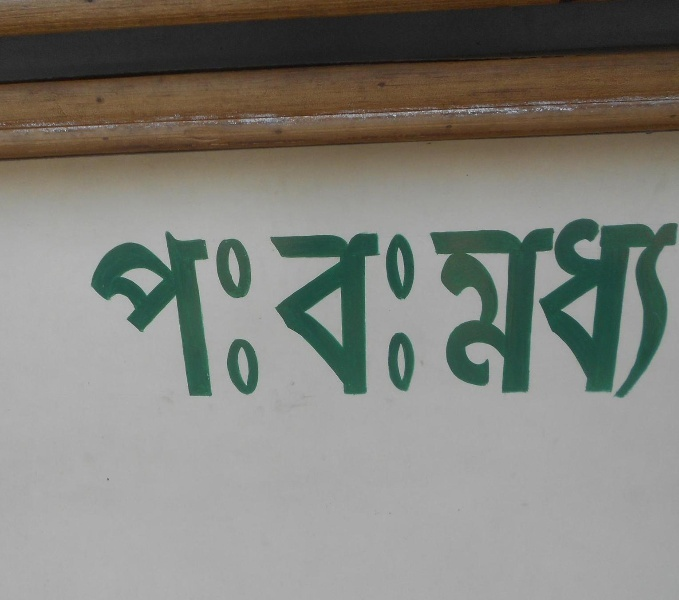text: (433, 212, 448, 402), (449, 212, 464, 402), (465, 212, 480, 402), (481, 212, 496, 402), (497, 212, 512, 402), (513, 212, 528, 402), (529, 212, 544, 402), (545, 212, 560, 402), (561, 212, 576, 402), (577, 212, 592, 402), (593, 212, 608, 402), (609, 212, 624, 402), (625, 212, 640, 402), (641, 212, 656, 402), (657, 212, 672, 402), (97, 224, 112, 410), (113, 224, 128, 410), (129, 224, 144, 410), (145, 224, 160, 410), (161, 224, 176, 410), (177, 224, 192, 410), (193, 224, 208, 410), (209, 224, 224, 410), (225, 224, 240, 410), (241, 224, 256, 410), (273, 230, 288, 396), (289, 230, 304, 396), (305, 230, 320, 396), (321, 230, 336, 396), (337, 230, 352, 396), (353, 230, 368, 396), (369, 230, 384, 396), (385, 230, 400, 396), (401, 230, 416, 396), (83, 224, 96, 410), (257, 224, 264, 410), (673, 212, 678, 402), (428, 212, 432, 402), (269, 230, 272, 396), (417, 230, 420, 396)
